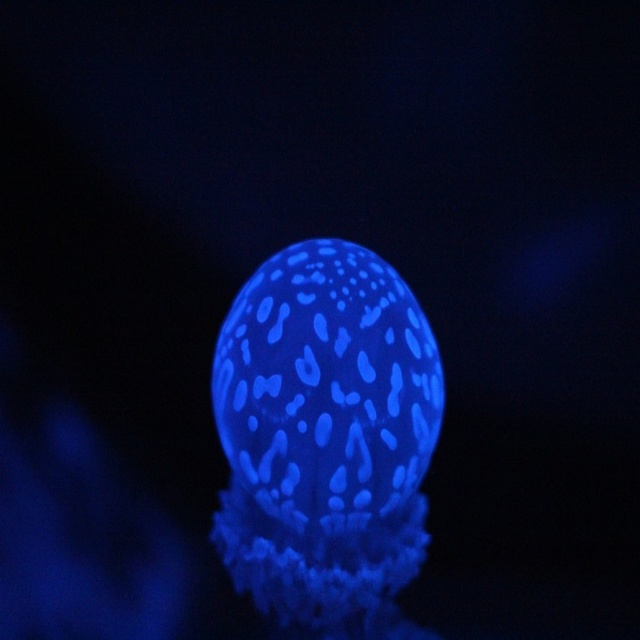Jellyfish: (206, 232, 447, 639)
